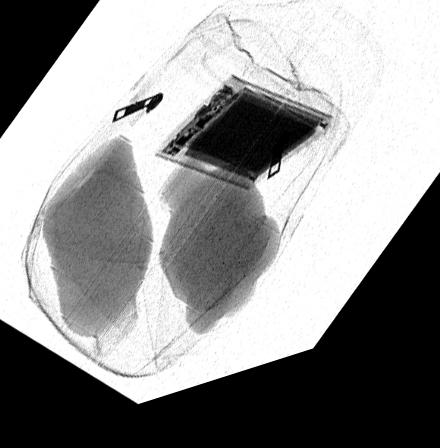Powerbank: (156, 87, 333, 206)
